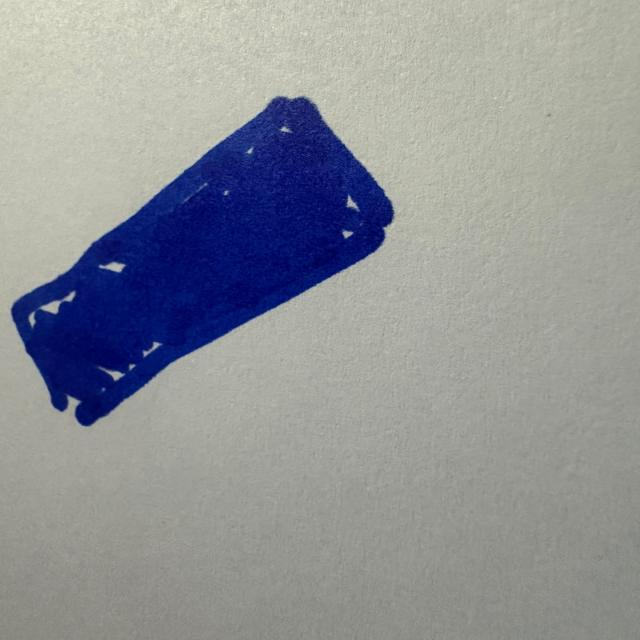Rectangle: (12, 97, 393, 425)
